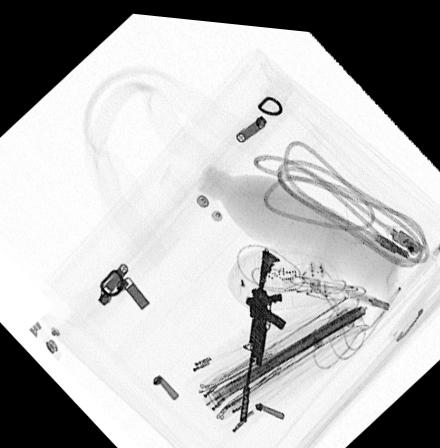Gun: (239, 242, 286, 414)
